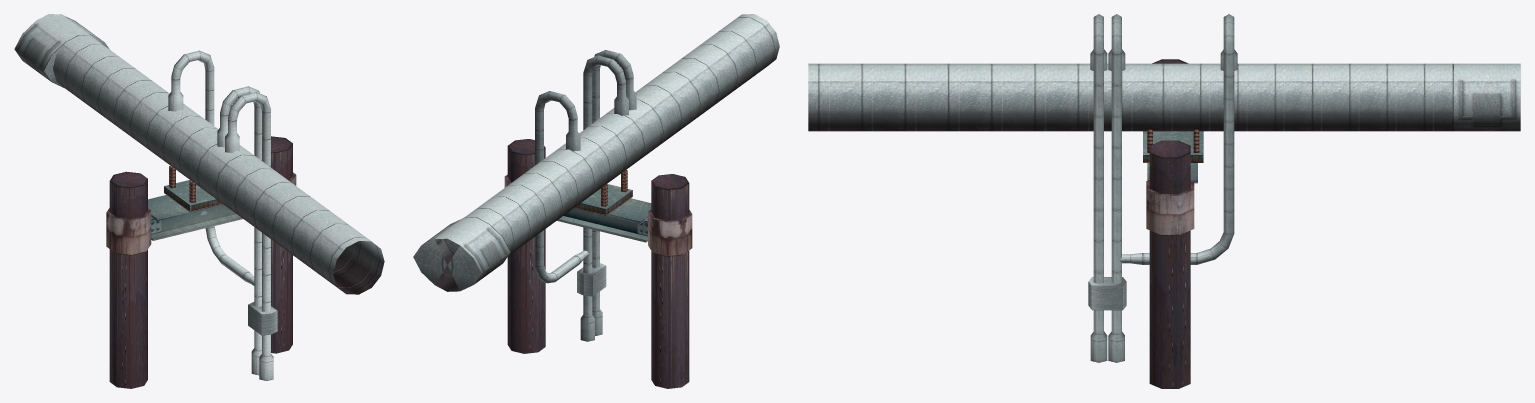
Rendered from pipes_tall_w_thin.fbx.
3 views of the same model, side by side, from view 1: azimuth 30°, elevation 25°; view 2: azimuth 150°, elevation 25°; view 3: azimuth 270°, elevation 25° (orthographic). The views are drawn at different scales.
Parts seen in each view (by area): view 1: mesh_15, mesh_13, mesh_14, mesh_16, mesh_18, mesh_17, mesh_2, mesh_10, mesh_19, mesh_12, mesh_11; view 2: mesh_15, mesh_13, mesh_14, mesh_17, mesh_18, mesh_16, mesh_2, mesh_9, mesh_19, mesh_12, mesh_11; view 3: mesh_15, mesh_14, mesh_16, mesh_17, mesh_18, mesh_19, mesh_2.
Part boxes in pixels (x1,y1,x2,y2): mesh_15: [14, 14, 384, 294]; mesh_13: [106, 171, 151, 388]; mesh_14: [271, 136, 296, 353]; mesh_16: [225, 92, 273, 380]; mesh_18: [168, 50, 254, 285]; mesh_17: [217, 86, 261, 375]; mesh_2: [164, 180, 222, 212]; mesh_10: [151, 204, 235, 234]; mesh_19: [248, 302, 277, 335]; mesh_12: [148, 195, 223, 220]; mesh_11: [151, 214, 242, 240]; mesh_15: [413, 14, 779, 291]; mesh_13: [648, 174, 692, 388]; mesh_14: [504, 139, 545, 353]; mesh_17: [580, 55, 628, 341]; mesh_18: [535, 91, 589, 283]; mesh_16: [592, 50, 636, 335]; mesh_2: [574, 184, 632, 215]; mesh_9: [563, 208, 647, 236]; mesh_19: [577, 263, 606, 296]; mesh_12: [607, 198, 651, 223]; mesh_11: [557, 216, 647, 242]; mesh_15: [808, 63, 1520, 131]; mesh_14: [1146, 140, 1194, 388]; mesh_16: [1090, 14, 1107, 362]; mesh_17: [1108, 14, 1125, 362]; mesh_18: [1119, 14, 1237, 264]; mesh_19: [1088, 277, 1126, 310]; mesh_2: [1143, 131, 1203, 162].
Bounding box in the file's own units: 270 × 410 × 800.
Materials: 1 (1 with a texture image).
